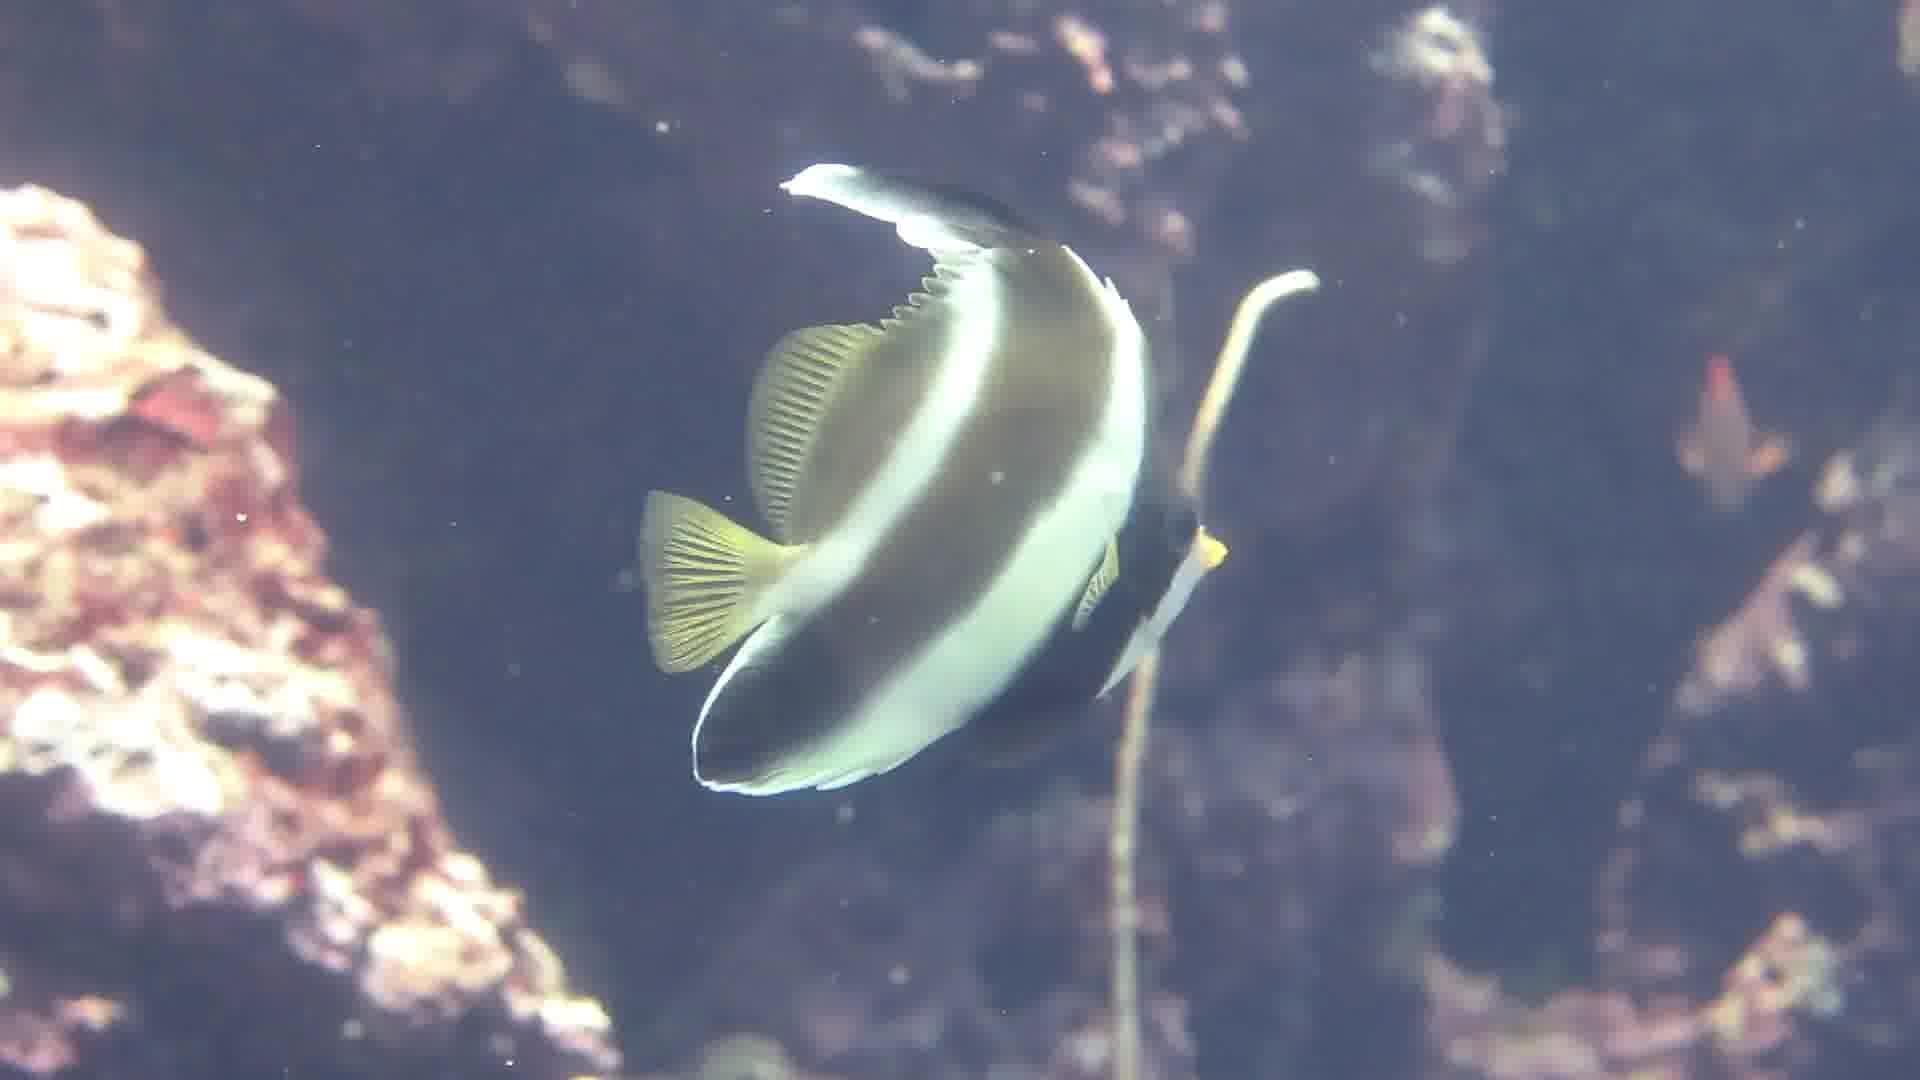Heniochus chrysostomus: (578, 88, 1332, 874)
